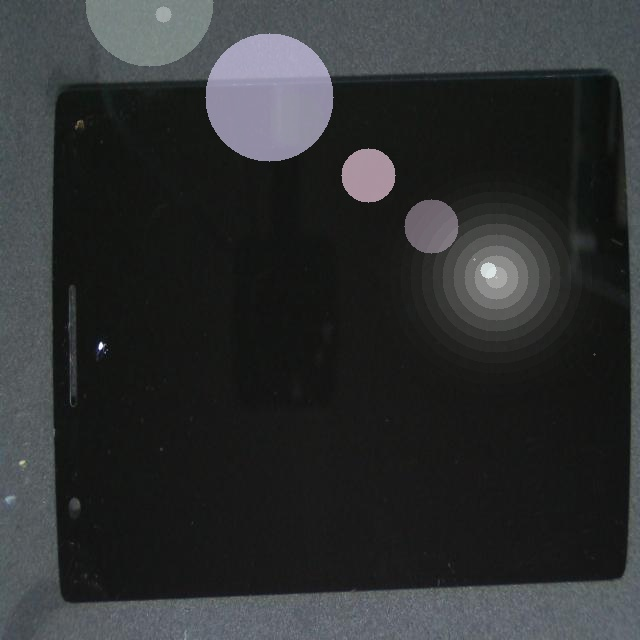stain: (27, 212, 153, 566)
